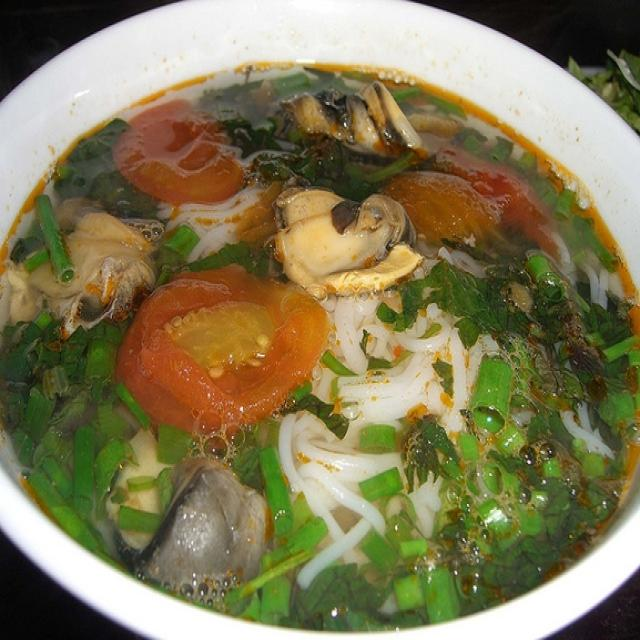面条主食: (10, 31, 631, 612)
